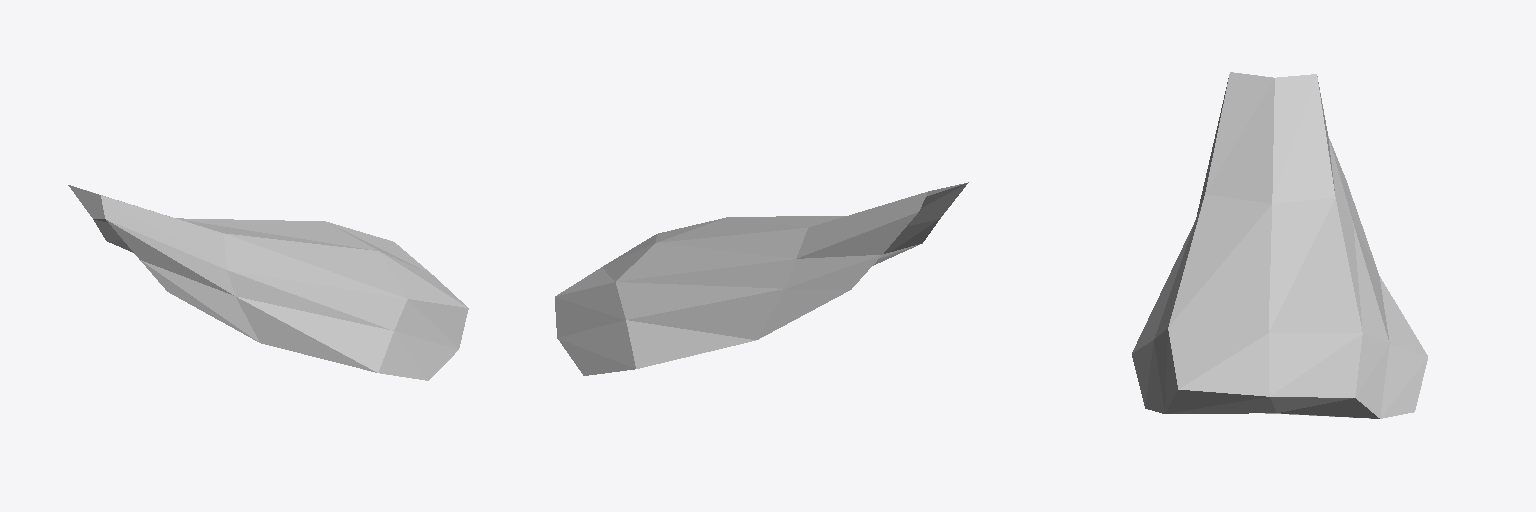
Rendered from lhand.obj.
The picture shows the model from 3 angles: view 1: azimuth 30°, elevation 25°; view 2: azimuth 150°, elevation 25°; view 3: azimuth 270°, elevation 25°; orthographic projection.
Visible parts, largest first — view 1: pasted__pCube28 group; view 2: pasted__pCube28 group; view 3: pasted__pCube28 group.
Part boxes in pixels (bbox=[...]): pasted__pCube28 group: bbox=[68, 185, 468, 380]; pasted__pCube28 group: bbox=[555, 182, 968, 375]; pasted__pCube28 group: bbox=[1132, 72, 1427, 418].
Bounding box in the file's own units: 3.22 × 1.77 × 2.35.